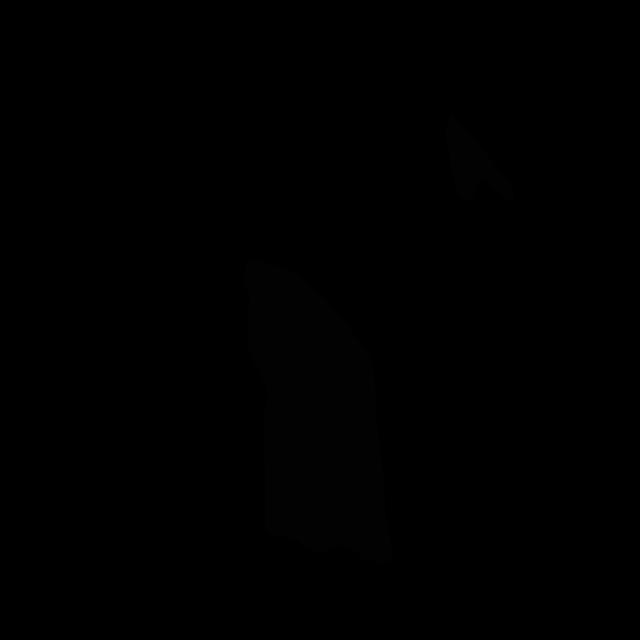cardboard: (243, 257, 393, 563), (444, 108, 514, 204)
